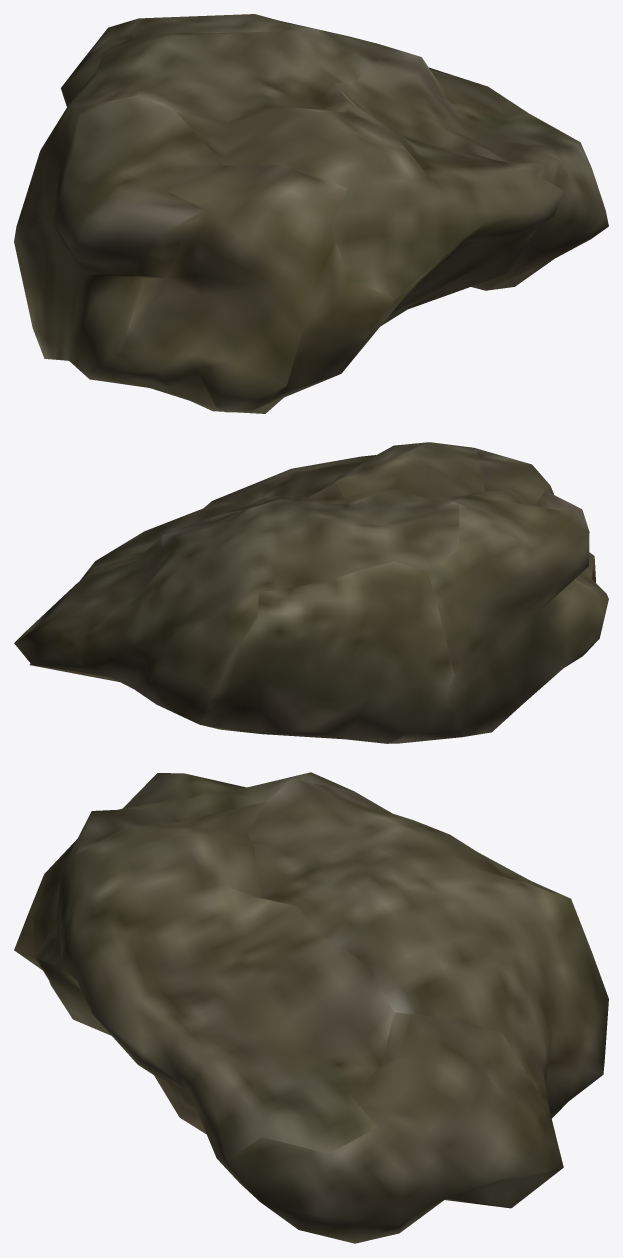
The picture shows the model from 3 angles, top to bottom: view 1: azimuth 30°, elevation 25°; view 2: azimuth 150°, elevation 25°; view 3: azimuth 270°, elevation 25°; orthographic projection. The views are drawn at different scales.
Visible parts, largest first — view 1: rock_moss_set_02__f_lod2; view 2: rock_moss_set_02__f_lod2; view 3: rock_moss_set_02__f_lod2.
Part boxes in pixels (left/top/right/bottom): rock_moss_set_02__f_lod2: left=14, top=14, right=608, bottom=413; rock_moss_set_02__f_lod2: left=14, top=442, right=608, bottom=743; rock_moss_set_02__f_lod2: left=14, top=772, right=608, bottom=1243.
Bounding box in the file's own units: 1.54 × 0.7144 × 1.44.
1 material, 1 textured.
